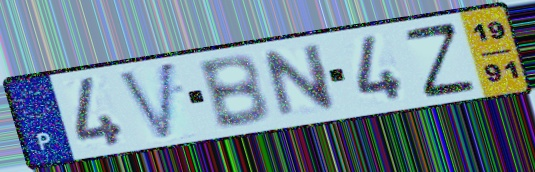4: (71, 73, 127, 149), (353, 32, 408, 105)
B: (194, 52, 274, 133)
N: (260, 40, 341, 122)
V: (115, 58, 178, 144)
Z: (400, 19, 480, 101)
